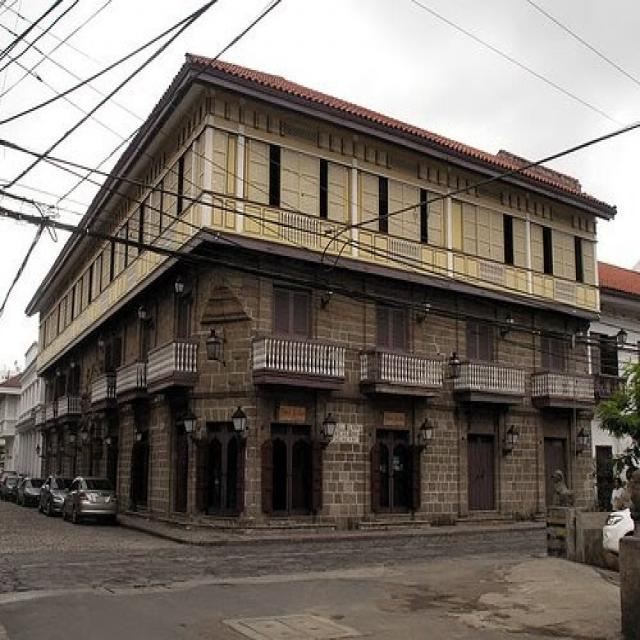Casa Manila: (0, 42, 640, 549)
